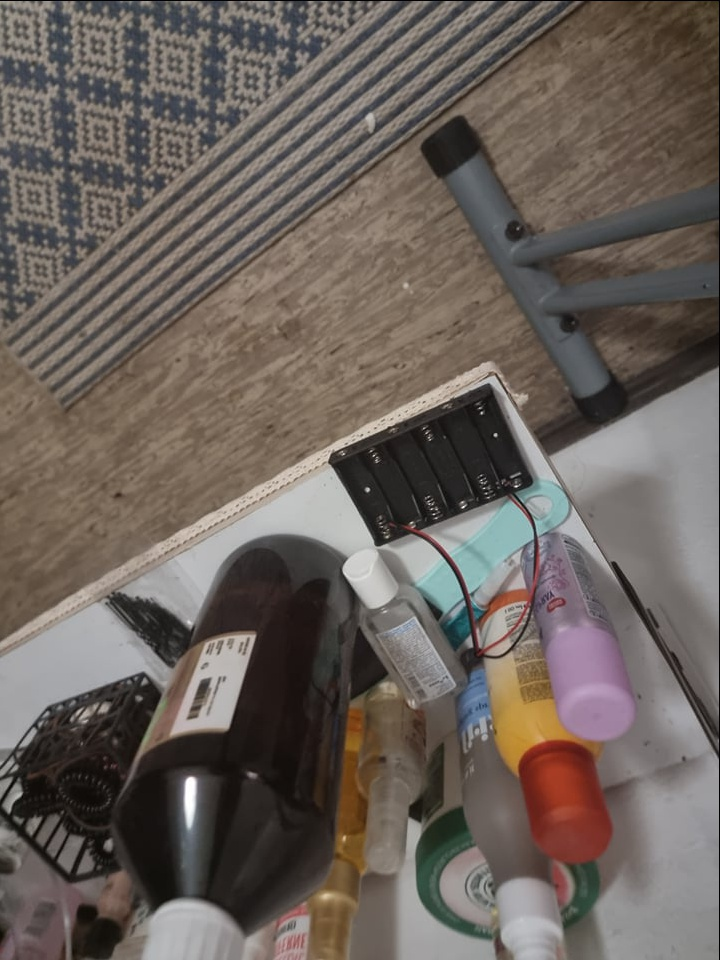BATTERY BOX: (334, 381, 537, 552)
